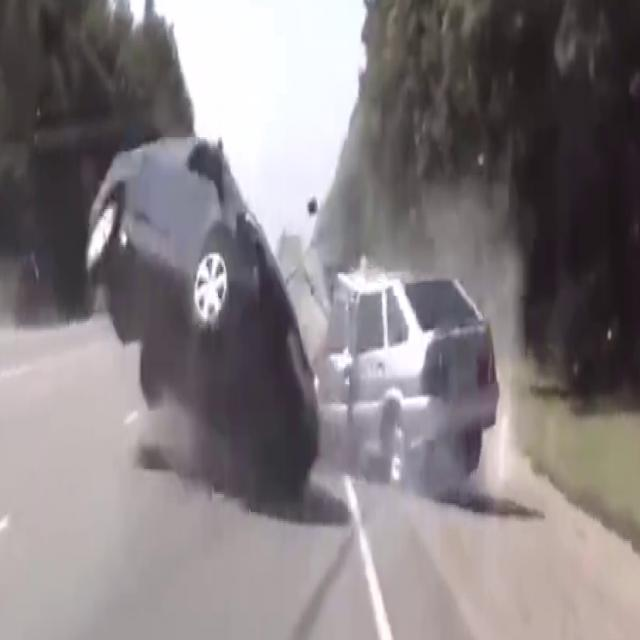accident: (66, 108, 510, 511), (78, 114, 313, 492)
